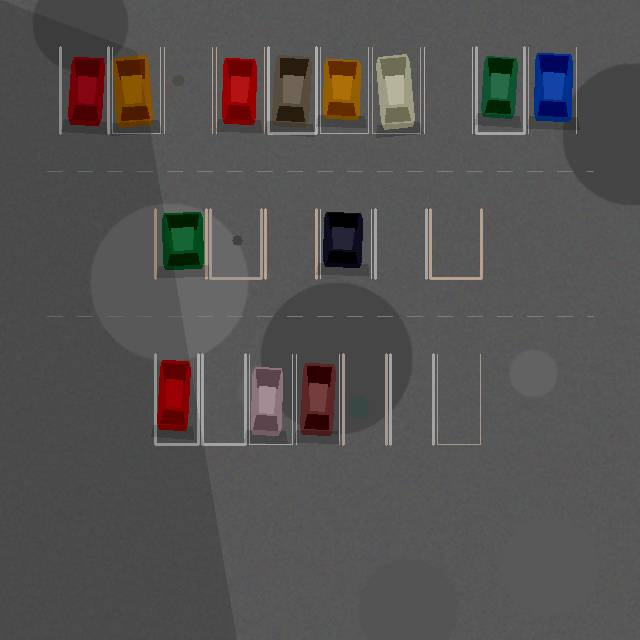space-empty: (164, 47, 212, 133), (424, 47, 472, 133), (202, 354, 245, 444), (343, 354, 386, 444), (390, 354, 433, 444), (437, 354, 480, 444), (210, 209, 261, 278), (265, 209, 316, 278), (375, 209, 426, 278), (430, 209, 481, 278)
space-occupied: (60, 47, 108, 133), (112, 47, 160, 133), (216, 47, 264, 133), (268, 47, 316, 133), (320, 47, 368, 133), (372, 47, 420, 133), (476, 47, 524, 133), (528, 47, 576, 133), (155, 354, 198, 444), (249, 354, 292, 444), (296, 354, 339, 444), (155, 209, 206, 278), (320, 209, 371, 278)
